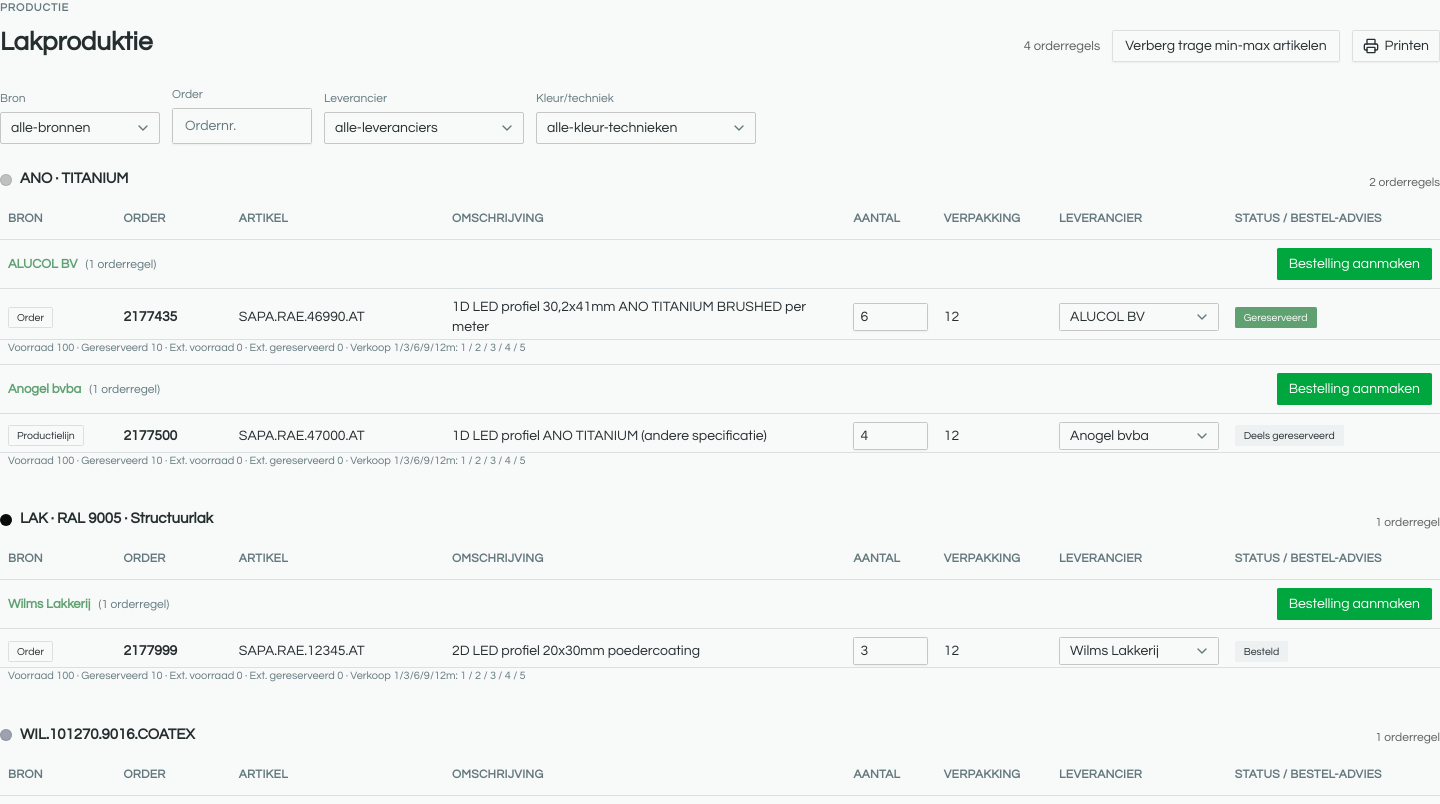
Test: LakproductiePage › shows the klant and other detail fields in a popup when a row is clicked
Click the text "2177435" at [173, 314], box [115,288,231,340]
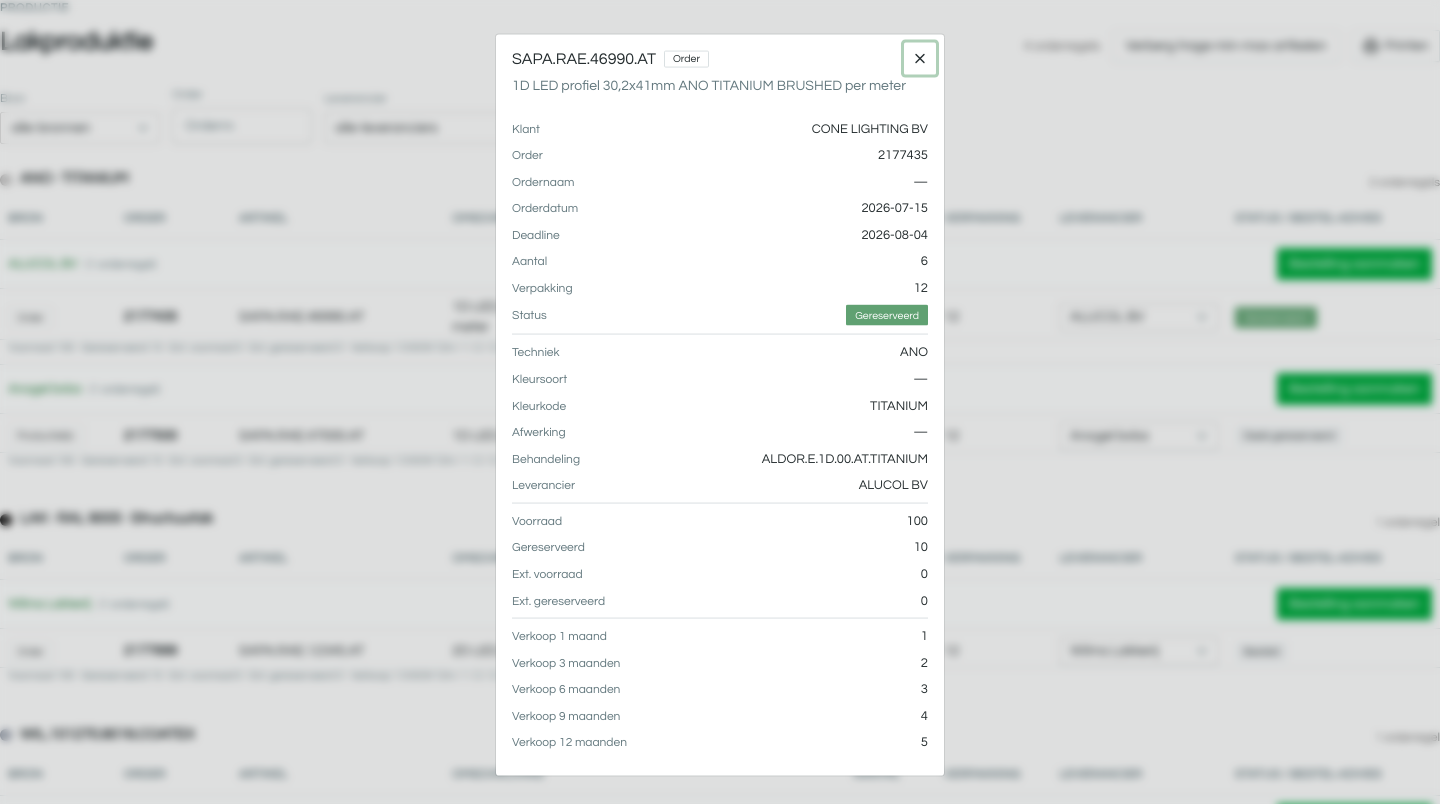
Now the text "CONE LIGHTING BV" is shown, box [812,119,928,138]
Now the heading "SAPA.RAE.46990.AT Order" is shown, box [512,51,709,67]
